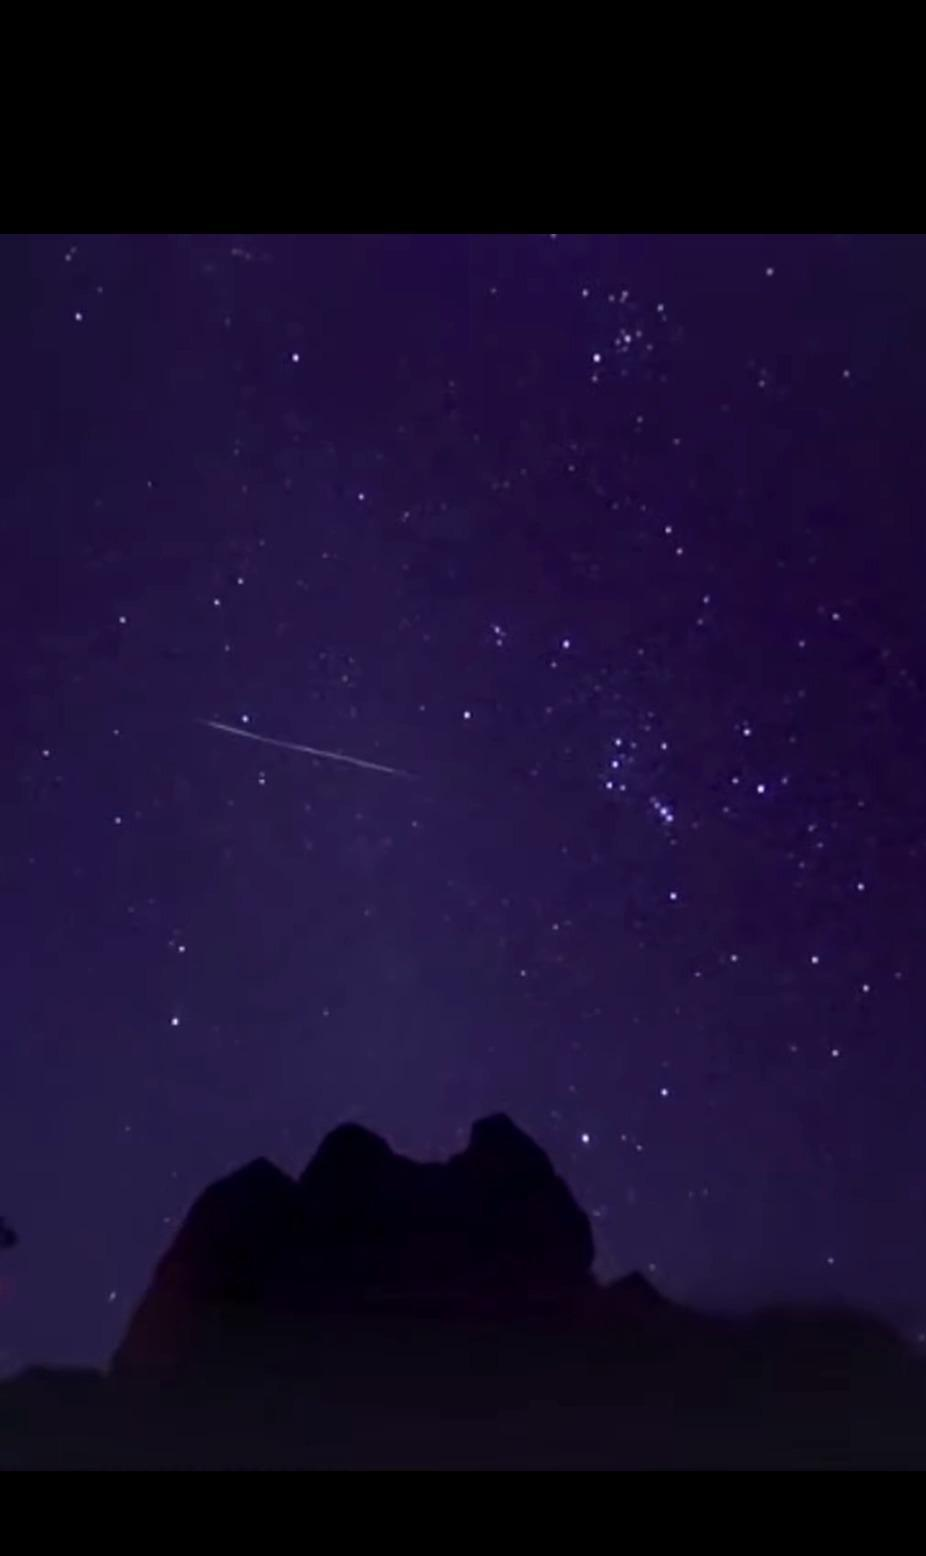meteorite: (203, 718, 429, 790)
